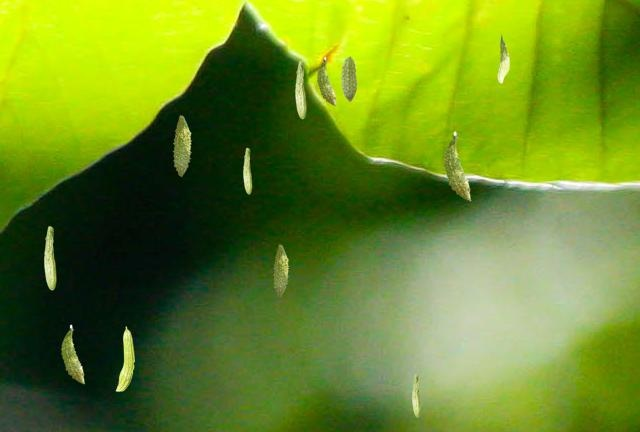ampalaya: (442, 131, 471, 201), (60, 324, 85, 384), (115, 326, 135, 392), (172, 115, 192, 177), (316, 56, 337, 106), (272, 244, 289, 297), (43, 225, 56, 290), (340, 55, 357, 102), (497, 33, 510, 84), (295, 60, 306, 119), (242, 147, 252, 194), (411, 374, 420, 417)
